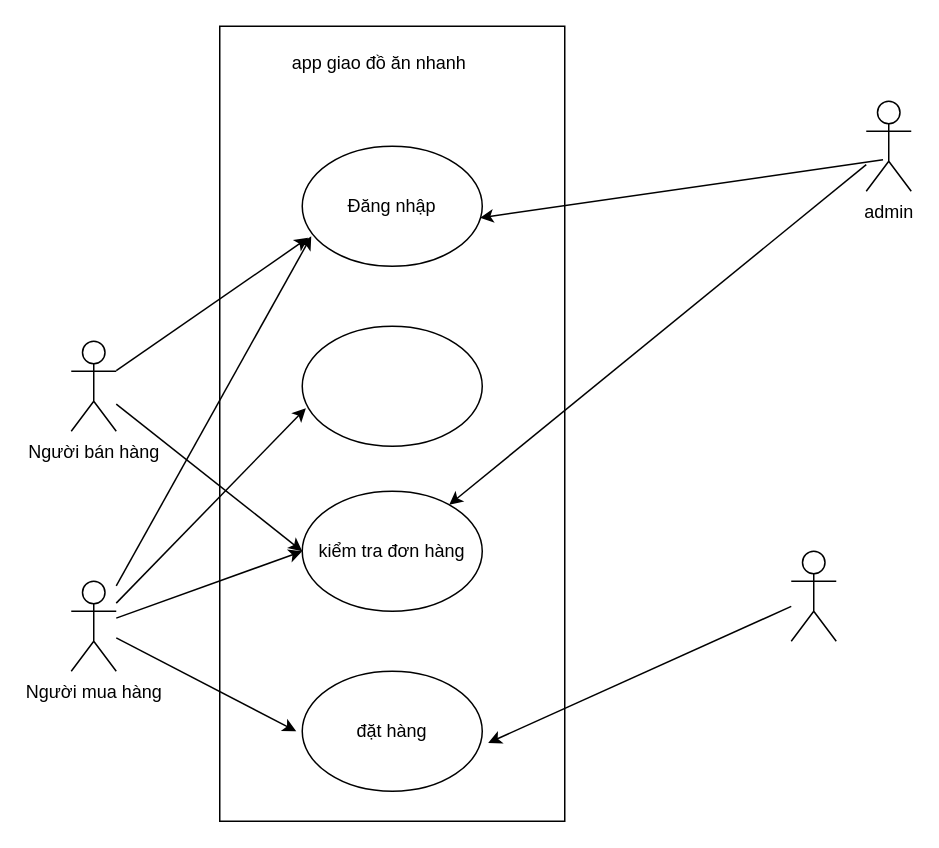
Some shapes in this 939 by 848 pixel diagram are drawn without their labels. The shapes that lost their labels are listed below. From the top down, each one's box as (x1, y1, x2, y2) in pixels, then its label:
(301, 325, 482, 446): tìm sản phẩm
(790, 550, 836, 641): ứng dụng thanh toán
